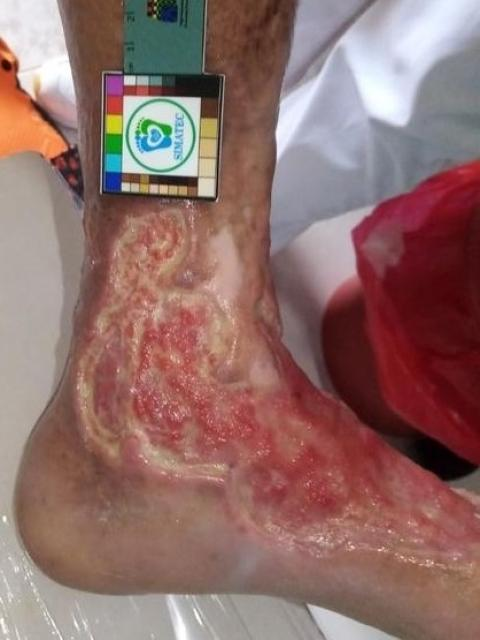wound: (74, 208, 480, 569)
